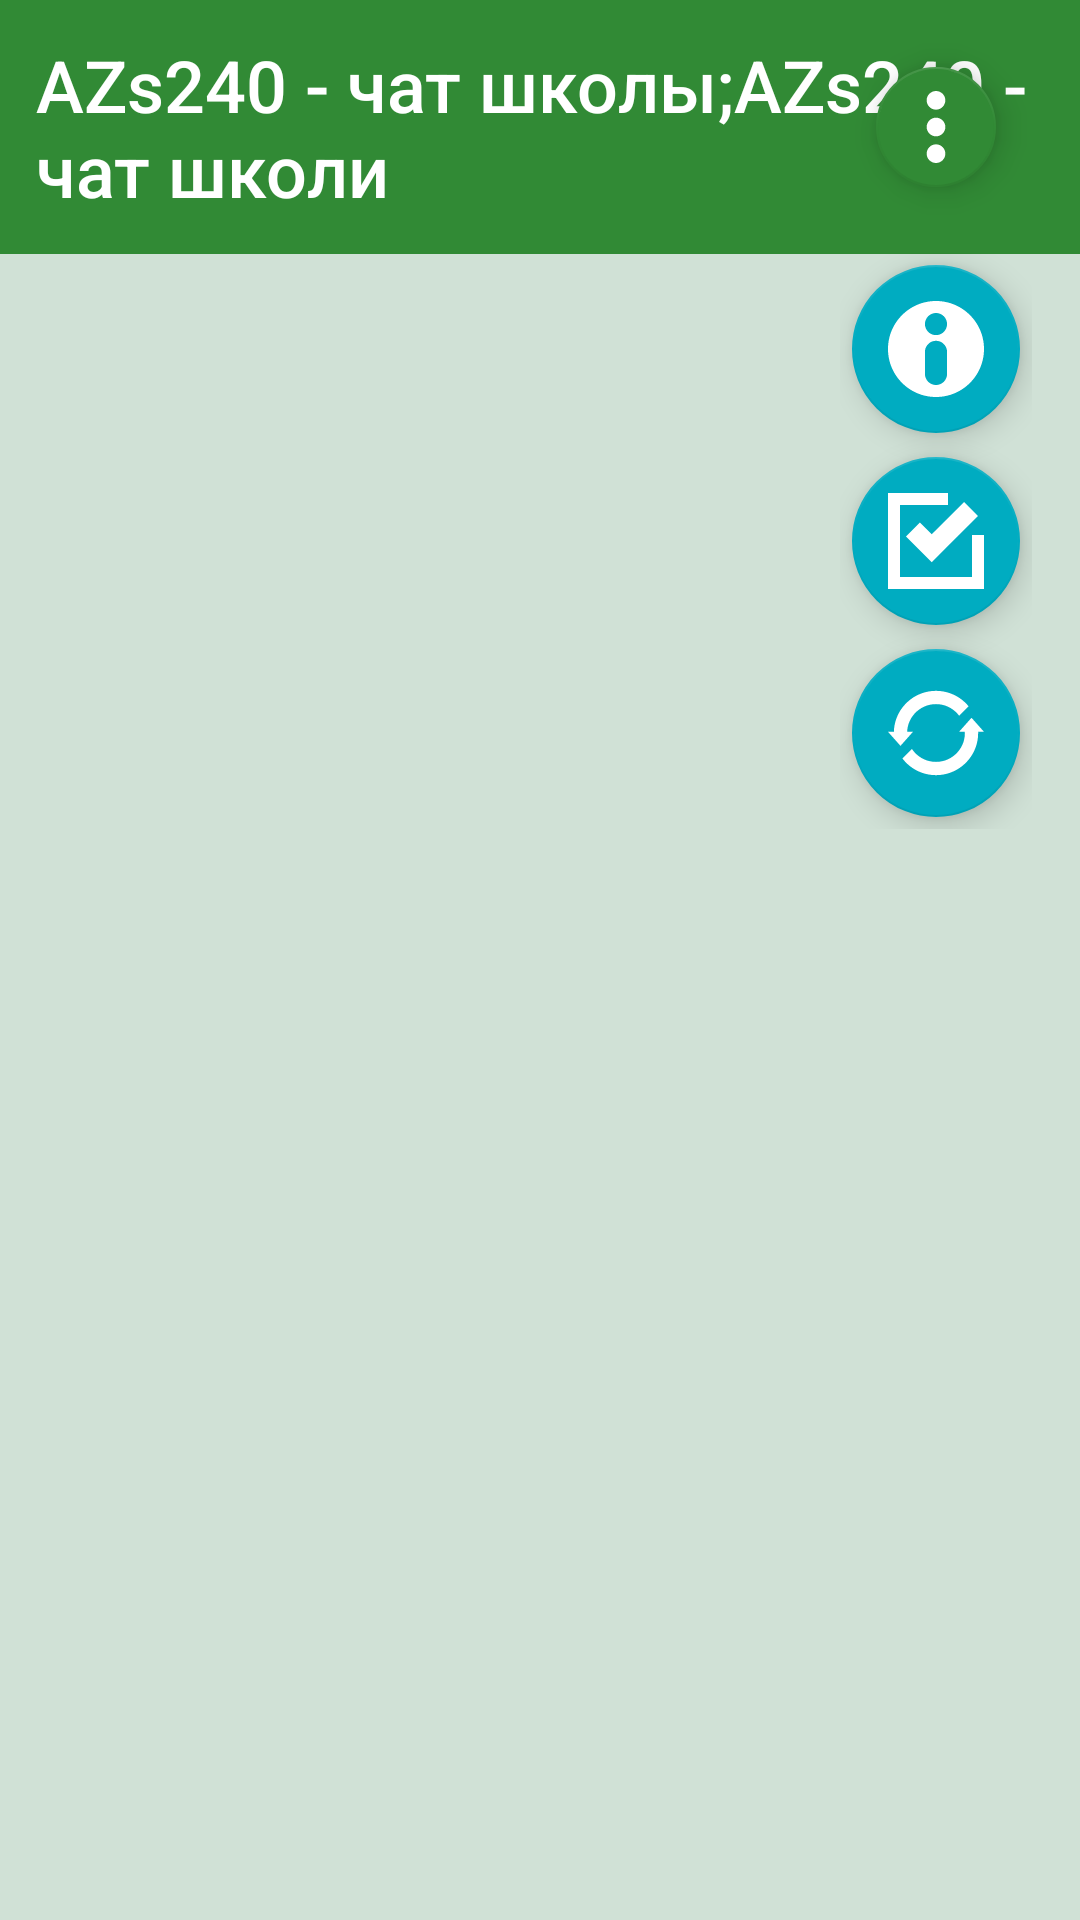

Where to tap for icons on this 1080 × 1920 app screen, as (x=x, y=y):
create item: (x=936, y=541)
info item: (x=936, y=349)
refresh item: (x=936, y=733)
